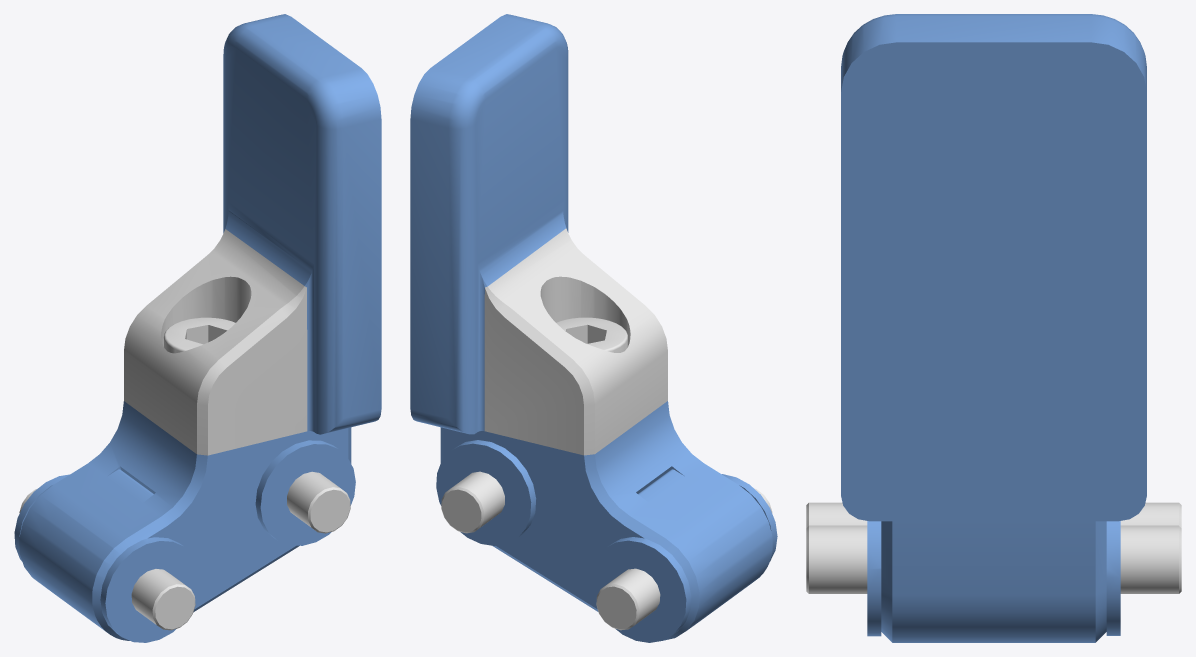
File: right_finger_tip.dae
The picture shows the model from 3 angles, left to right: view 1: azimuth 30°, elevation 25°; view 2: azimuth 150°, elevation 25°; view 3: azimuth 270°, elevation 25°; orthographic projection. The views are drawn at different scales.
Parts seen in each view (by area): view 1: right_finger_tip; view 2: right_finger_tip; view 3: right_finger_tip.
Part boxes in pixels (bbox=[...]): right_finger_tip: bbox=[14, 14, 381, 642]; right_finger_tip: bbox=[410, 14, 777, 642]; right_finger_tip: bbox=[806, 14, 1181, 642].
Bounding box in the file's own units: 0.0312 × 0.027 × 0.057.
